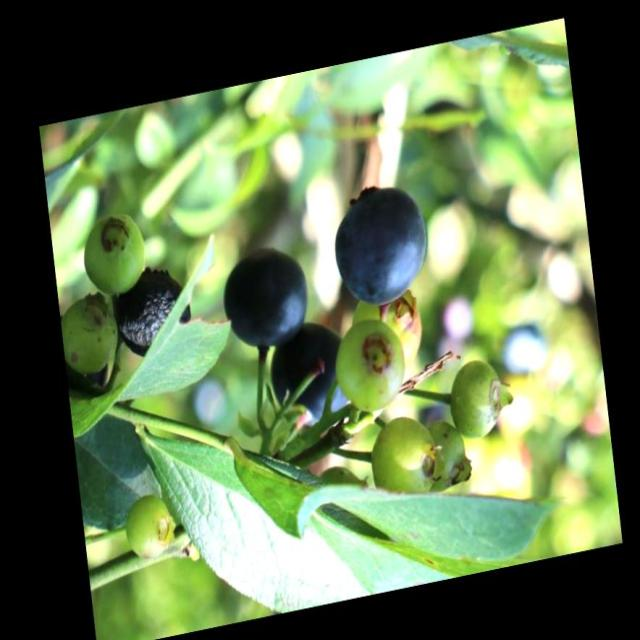blueberry: (328, 172, 437, 314), (258, 317, 355, 436), (218, 241, 316, 356), (110, 262, 198, 366)
blueberry-unripe: (334, 315, 406, 414), (366, 410, 440, 506), (352, 286, 424, 375), (80, 208, 148, 301), (57, 286, 120, 382), (447, 352, 507, 439), (120, 487, 175, 562), (424, 419, 472, 496)
